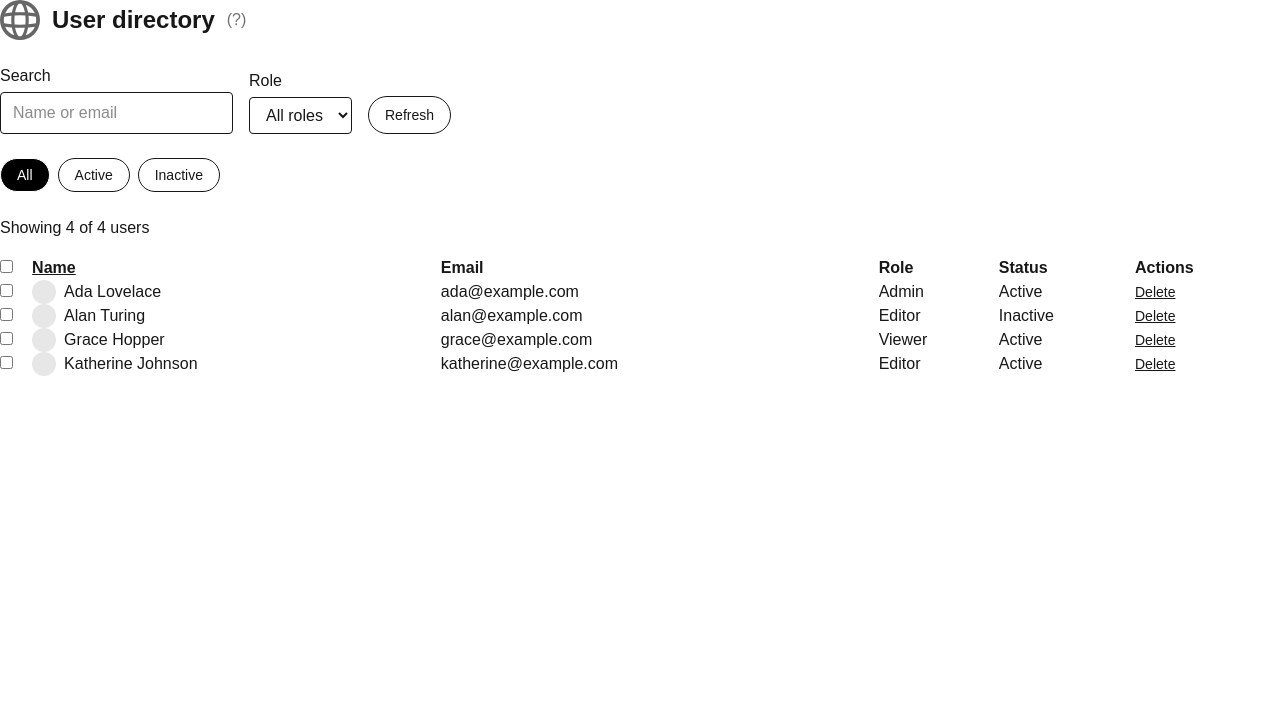
delete flow › closes on Escape
This screenshot has width=1280, height=720.
Click the button with aria-label "Delete Ada Lovelace".
click(1155, 292)  # box [1135,282,1176,302]
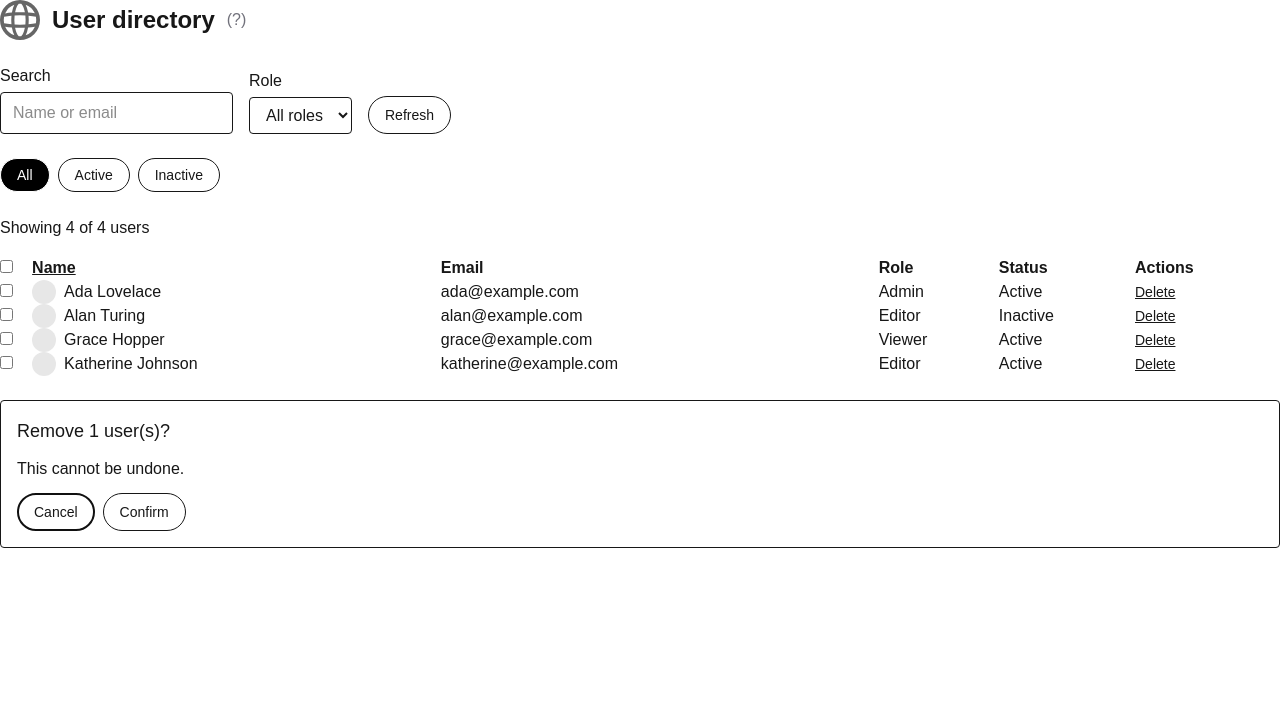
Now the dialog is shown, box [0,400,1279,548]
Press Escape
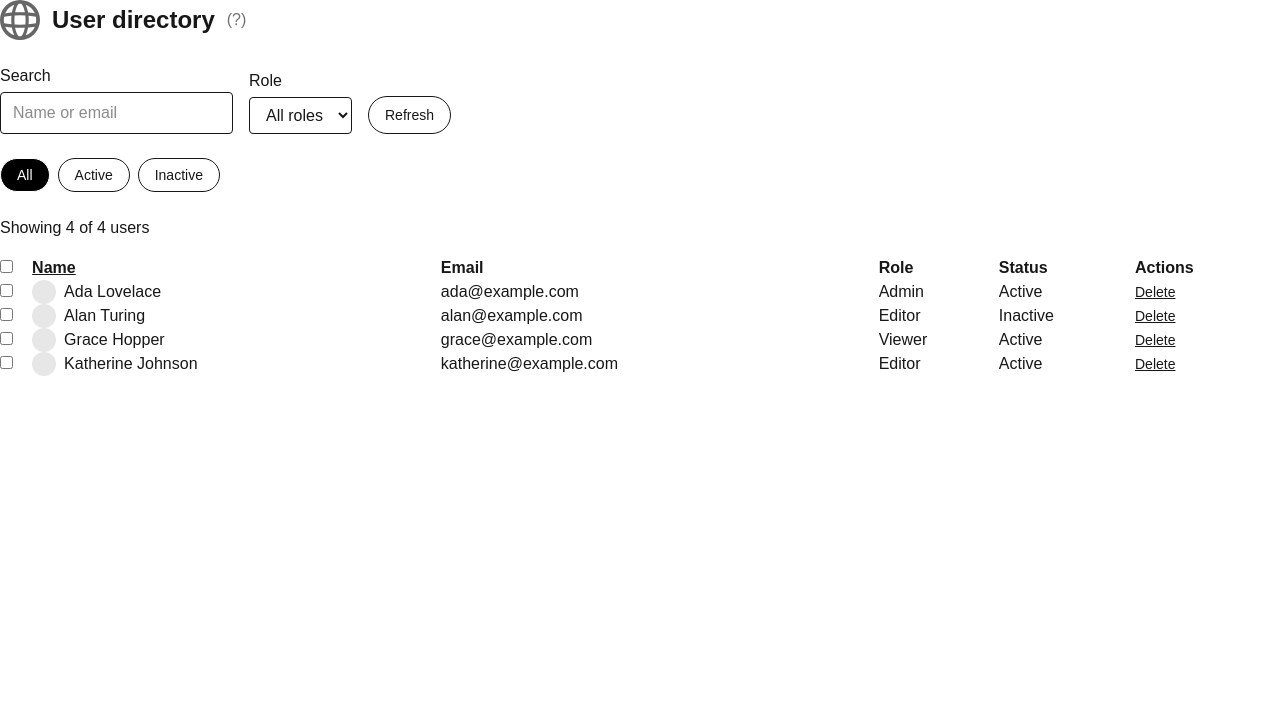
Now the dialog is gone
